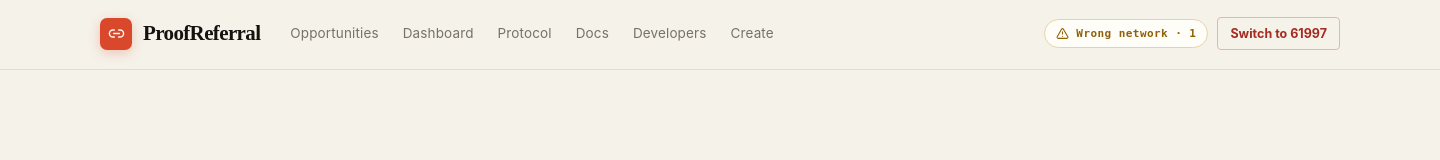
Test case: AppHeader wallet states › prompts a network switch when the wallet is on the wrong chain
The image size is (1440, 160).
Expected: the text "Wrong network · 1" is shown, [1044,19,1208,48]
Click the button "Switch to 61997". click: (1279, 34)
box: [1217,17,1340,50]
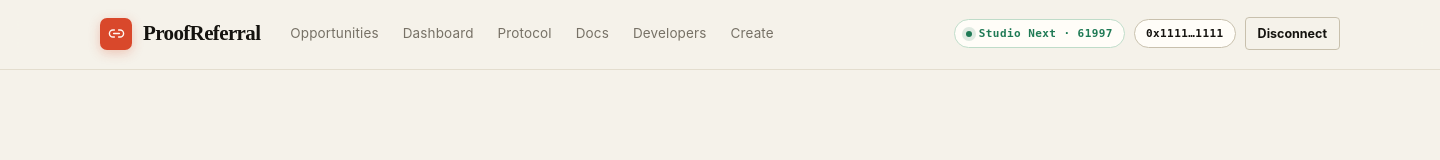
Result: the text "Studio Next · 61997" is shown at [954,19,1125,48]
Result: the text "0x1111…1111" is shown at [1134,19,1236,48]
